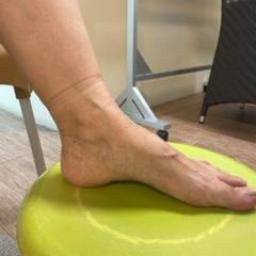Medial View -Left Foot-: (32, 71, 255, 224)
